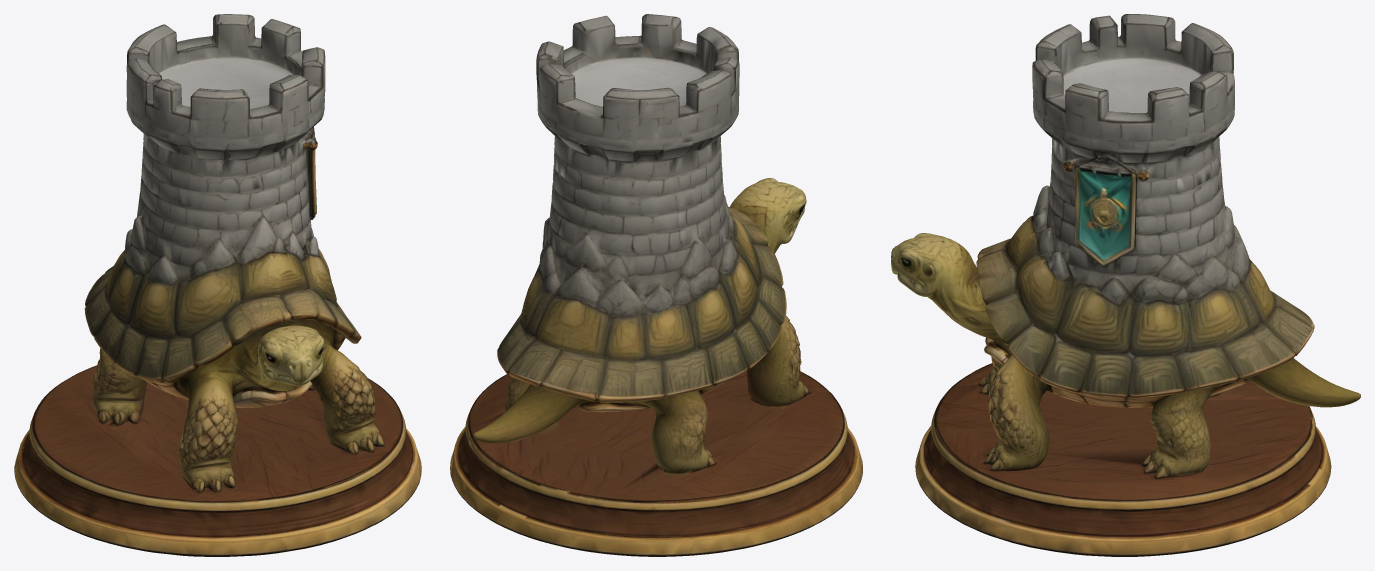
Rendered from hunyuan-rook-ally.glb.
3 views of the same model, side by side, from view 1: azimuth 30°, elevation 25°; view 2: azimuth 150°, elevation 25°; view 3: azimuth 270°, elevation 25° (orthographic). The views are drawn at different scales.
Parts seen in each view (by area): view 1: material; view 2: material; view 3: material.
Boxes of the visible parts, x1,y1,x2,y2 form: material: [14, 14, 421, 556]; material: [450, 14, 862, 556]; material: [891, 14, 1360, 556].
Bounding box in the file's own units: 0.8072 × 0.9009 × 0.9072.
1 material, 1 textured.
